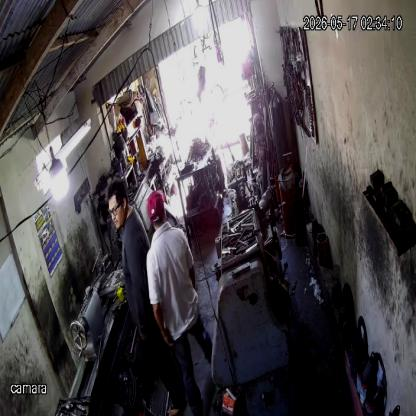lentes: (107, 199, 124, 220)
